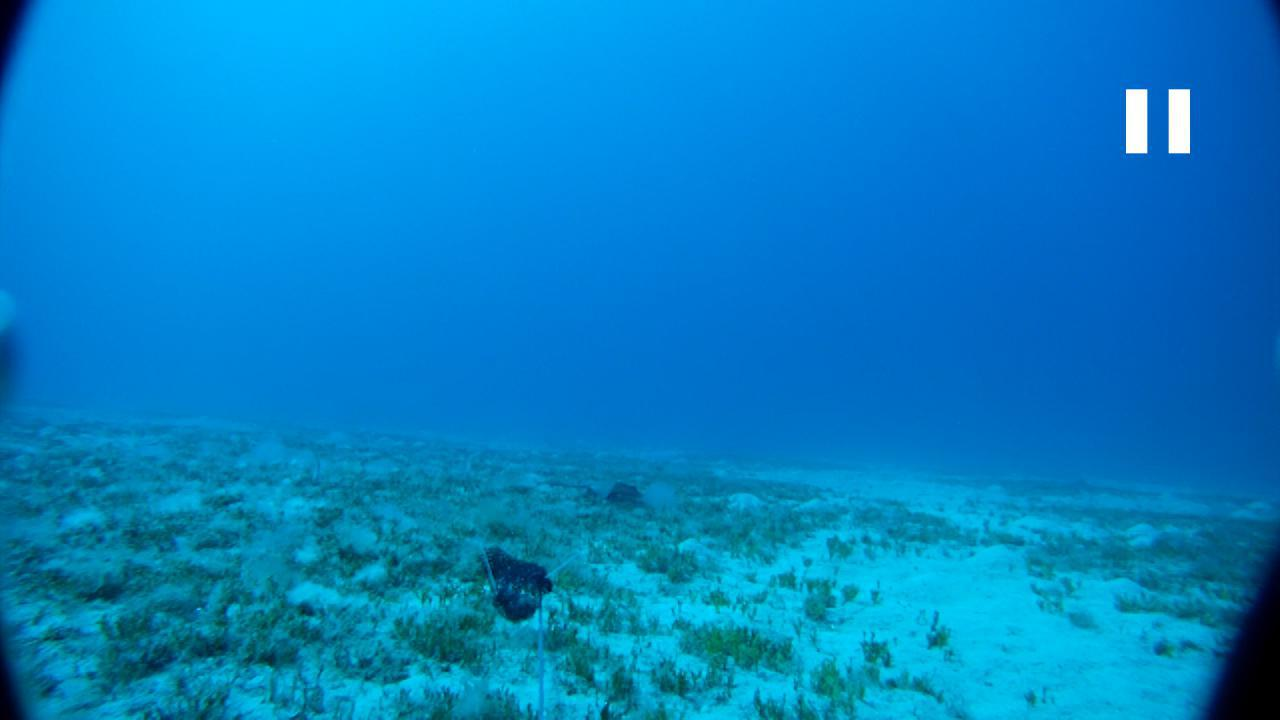dasyatis: (542, 479, 644, 503)
